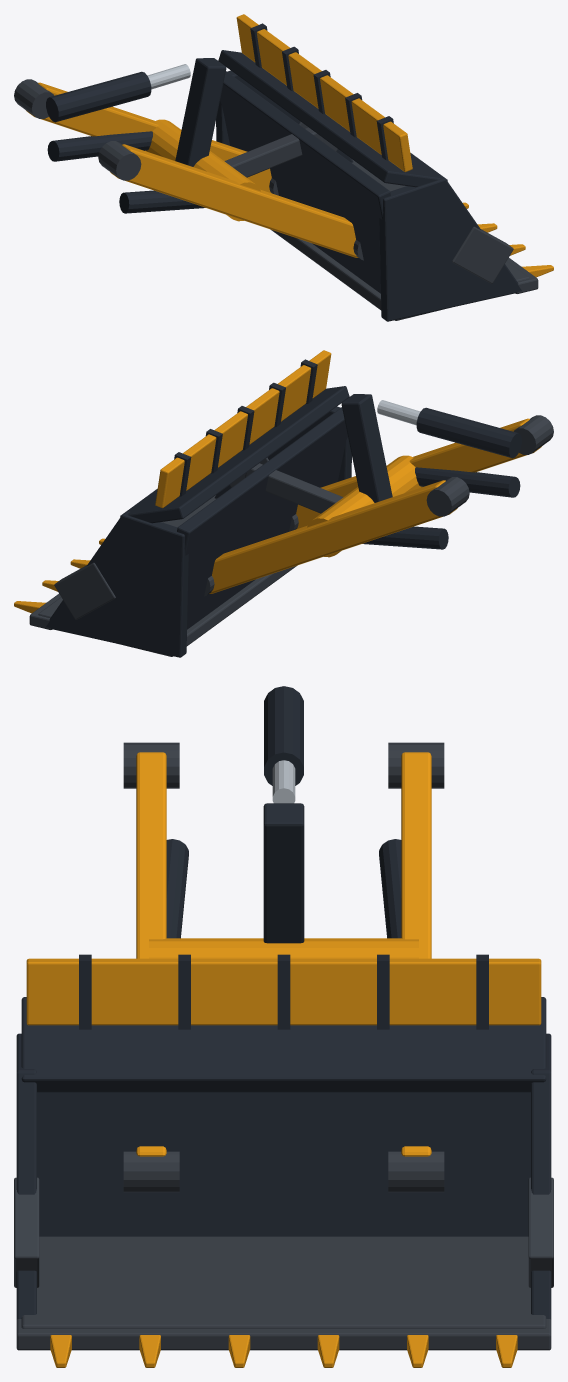
File: wheel_loader_bucket.glb
3 views of the same model, one above another, from view 1: azimuth 30°, elevation 25°; view 2: azimuth 150°, elevation 25°; view 3: azimuth 270°, elevation 25° (orthographic). The views are drawn at different scales.
Parts seen in each view (by area): view 1: WLB_SideWall_R, WLB_BucketBack, WLB_LiftArm_R, WLB_SpillGuard, WLB_BucketTop, WLB_ZBarBellcrank, WLB_LiftArm_L, WLB_TiltCylBody, WLB_BucketFloor, WLB_SideCutter_R, WLB_CrossTube, WLB_LiftCyl_L (+7 smaller); view 2: WLB_SideWall_L, WLB_BucketBack, WLB_LiftArm_L, WLB_SpillGuard, WLB_BucketTop, WLB_ZBarBellcrank, WLB_LiftArm_R, WLB_TiltCylBody, WLB_BucketFloor, WLB_SideCutter_L, WLB_CrossTube, WLB_LiftCyl_R (+7 smaller); view 3: WLB_BucketBack, WLB_BucketFloor, WLB_BucketTop, WLB_SpillGuard, WLB_CuttingLip, WLB_LiftArm_L, WLB_LiftArm_R, WLB_ZBarBellcrank, WLB_CrossTube, WLB_SideWall_L, WLB_SideWall_R, WLB_TiltCylBody (+14 smaller).
Part boxes in pixels (x1,y1,x2,y2): WLB_SideWall_R: (379, 175, 521, 321); WLB_BucketBack: (220, 71, 390, 293); WLB_LiftArm_R: (110, 144, 358, 257); WLB_SpillGuard: (236, 14, 412, 172); WLB_BucketTop: (218, 50, 447, 187); WLB_ZBarBellcrank: (175, 58, 226, 166); WLB_LiftArm_L: (26, 82, 271, 193); WLB_TiltCylBody: (46, 71, 151, 122); WLB_BucketFloor: (270, 159, 529, 320); WLB_SideCutter_R: (452, 226, 513, 283); WLB_CrossTube: (146, 119, 260, 221); WLB_LiftCyl_L: (47, 131, 152, 161); WLB_SideWall_L: (46, 511, 188, 657); WLB_BucketBack: (177, 407, 347, 629); WLB_LiftArm_L: (209, 480, 457, 593); WLB_SpillGuard: (155, 350, 331, 508); WLB_BucketTop: (120, 386, 349, 523); WLB_ZBarBellcrank: (341, 394, 392, 502); WLB_LiftArm_R: (296, 418, 541, 529); WLB_TiltCylBody: (416, 407, 521, 458); WLB_BucketFloor: (38, 495, 297, 656); WLB_SideCutter_L: (54, 562, 115, 619); WLB_CrossTube: (307, 455, 421, 557); WLB_LiftCyl_R: (415, 467, 520, 497); WLB_BucketBack: (37, 1092, 530, 1236); WLB_BucketFloor: (21, 1236, 546, 1328); WLB_BucketTop: (21, 997, 546, 1092); WLB_SpillGuard: (26, 958, 541, 1025); WLB_CuttingLip: (16, 1319, 551, 1350); WLB_LiftArm_L: (401, 752, 431, 1156); WLB_LiftArm_R: (136, 752, 166, 1156); WLB_ZBarBellcrank: (263, 803, 304, 943); WLB_CrossTube: (149, 938, 418, 958); WLB_SideWall_L: (531, 1033, 551, 1319); WLB_SideWall_R: (16, 1033, 36, 1319); WLB_TiltCylBody: (264, 686, 303, 785).
Bounding box in the file's own units: 3.06 × 1.57 × 2.12.
